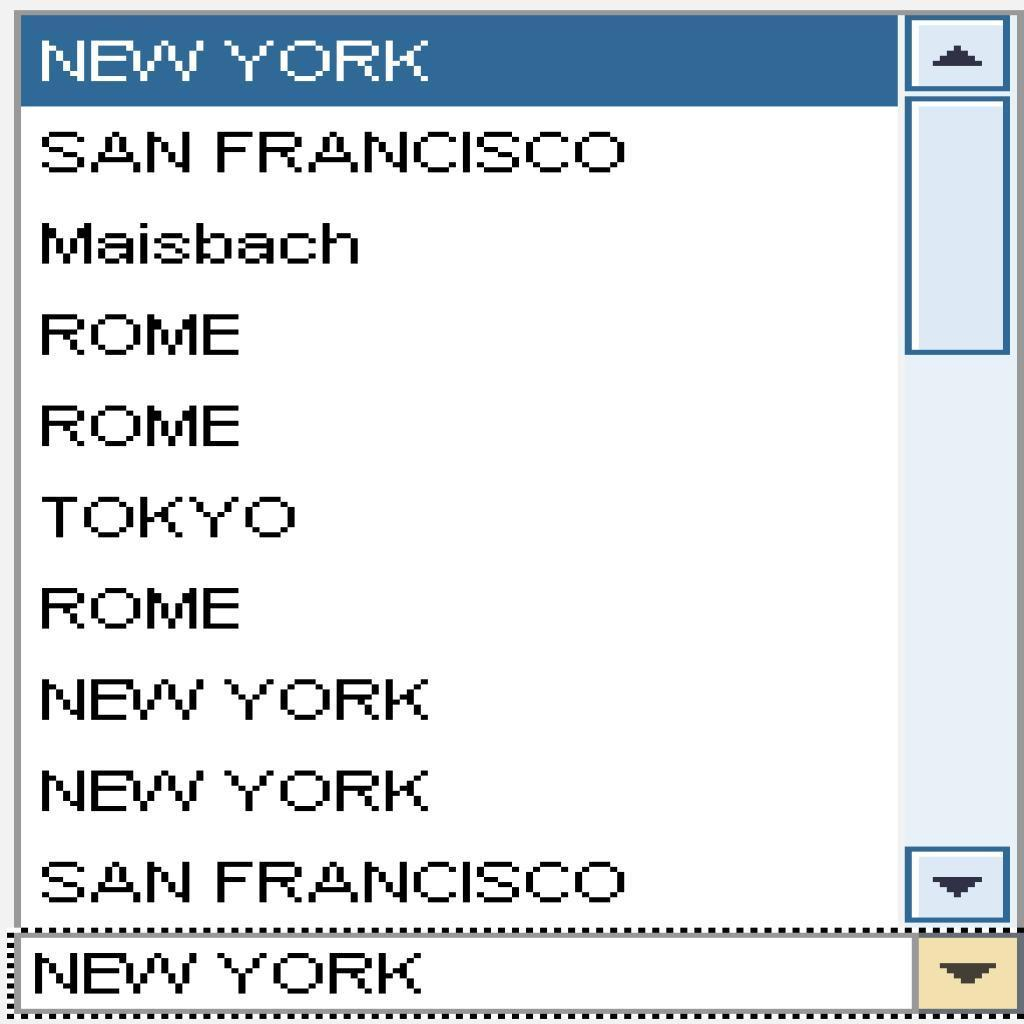dropdown: (19, 924, 1022, 1016)
